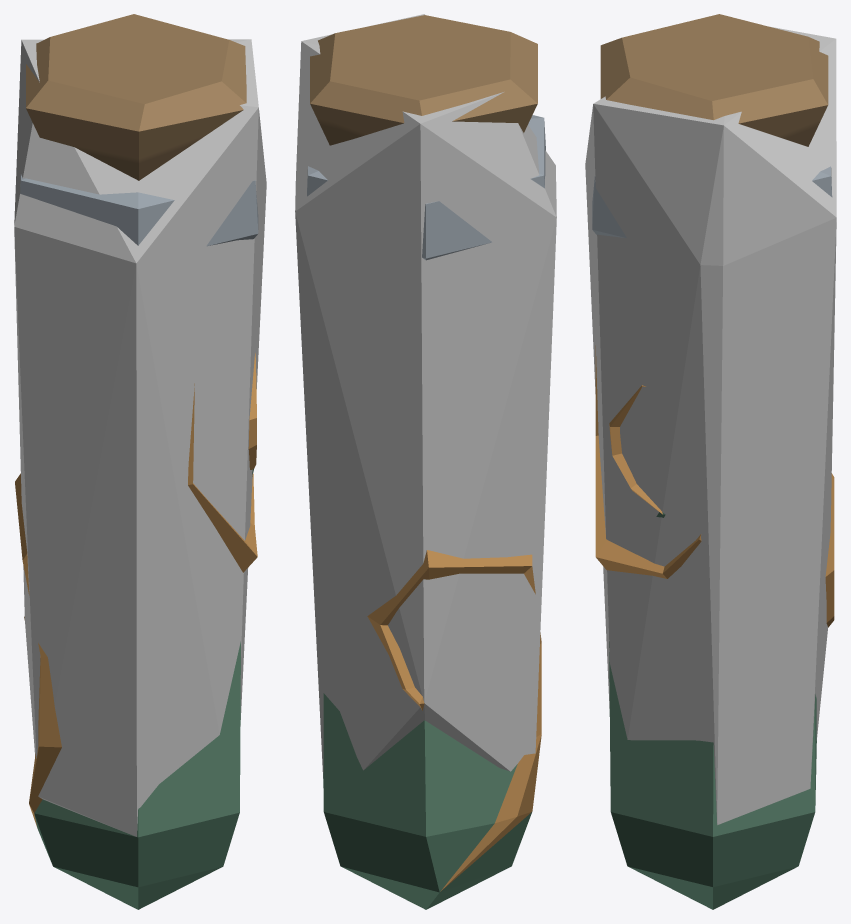
The model's file is SM_Prop_Potion_Stand_01_Bottle_03.fbx.
The picture shows the model from 3 angles, left to right: view 1: azimuth 30°, elevation 25°; view 2: azimuth 150°, elevation 25°; view 3: azimuth 270°, elevation 25°; orthographic projection.
Parts seen in each view (by area): view 1: SM_Prop_Potion_Stand_01_Bottle_03_ConvexHulls, SM_Prop_Potion_Stand_01_Bottle_03; view 2: SM_Prop_Potion_Stand_01_Bottle_03_ConvexHulls, SM_Prop_Potion_Stand_01_Bottle_03; view 3: SM_Prop_Potion_Stand_01_Bottle_03_ConvexHulls, SM_Prop_Potion_Stand_01_Bottle_03.
Boxes of the visible parts, left/top/right/bottom form: SM_Prop_Potion_Stand_01_Bottle_03_ConvexHulls: left=14, top=39, right=266, bottom=836; SM_Prop_Potion_Stand_01_Bottle_03: left=15, top=14, right=258, bottom=909; SM_Prop_Potion_Stand_01_Bottle_03_ConvexHulls: left=295, top=14, right=556, bottom=778; SM_Prop_Potion_Stand_01_Bottle_03: left=307, top=15, right=545, bottom=909; SM_Prop_Potion_Stand_01_Bottle_03_ConvexHulls: left=585, top=26, right=836, bottom=824; SM_Prop_Potion_Stand_01_Bottle_03: left=592, top=14, right=834, bottom=909.
Bounding box in the file's own units: 9.53 × 8.22 × 30.77.
Materials: 2 (1 with a texture image).
